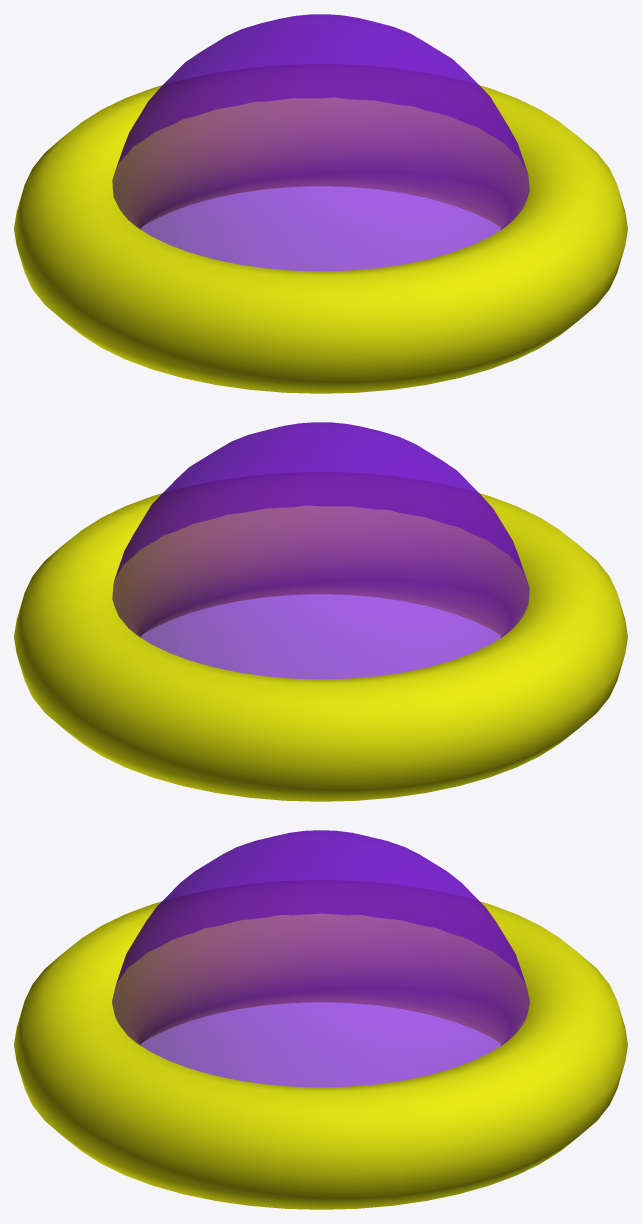
The model's file is saucer.glb.
3 renders of one model, top to bottom at view 1: azimuth 30°, elevation 25°; view 2: azimuth 150°, elevation 25°; view 3: azimuth 270°, elevation 25°, orthographic.
Visible parts, largest first — view 1: Torus, Sphere; view 2: Torus, Sphere; view 3: Torus, Sphere.
Boxes of the visible parts, bbox=[...] form: Torus: bbox=[14, 85, 627, 393]; Sphere: bbox=[112, 14, 529, 271]; Torus: bbox=[14, 493, 627, 801]; Sphere: bbox=[112, 422, 529, 679]; Torus: bbox=[14, 901, 627, 1209]; Sphere: bbox=[112, 830, 529, 1087].
Size of the model in its own units: 2.5 by 1.12 by 2.5.
